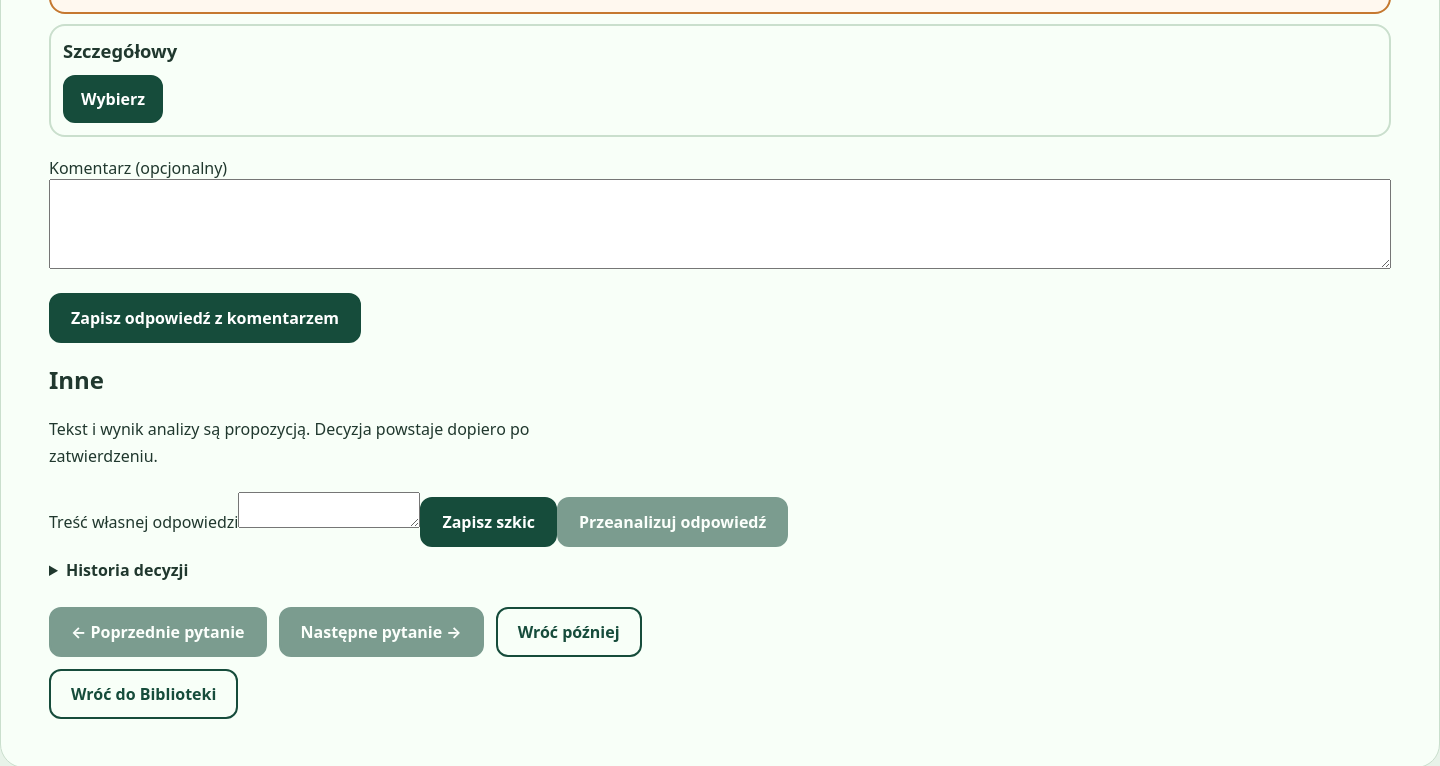
Test: Ekran analizowanej własnej odpowiedzi › Zmień odpowiedź unieważnia wynik i wymaga ponownej analizy
This screenshot has width=1440, height=766.
(page scrolled)
Type "Stary tekst" into the text box labelled "Treść własnej odpowiedzi" at {"x": 329, "y": 510}, box x1=238 y1=492 x2=420 y2=528
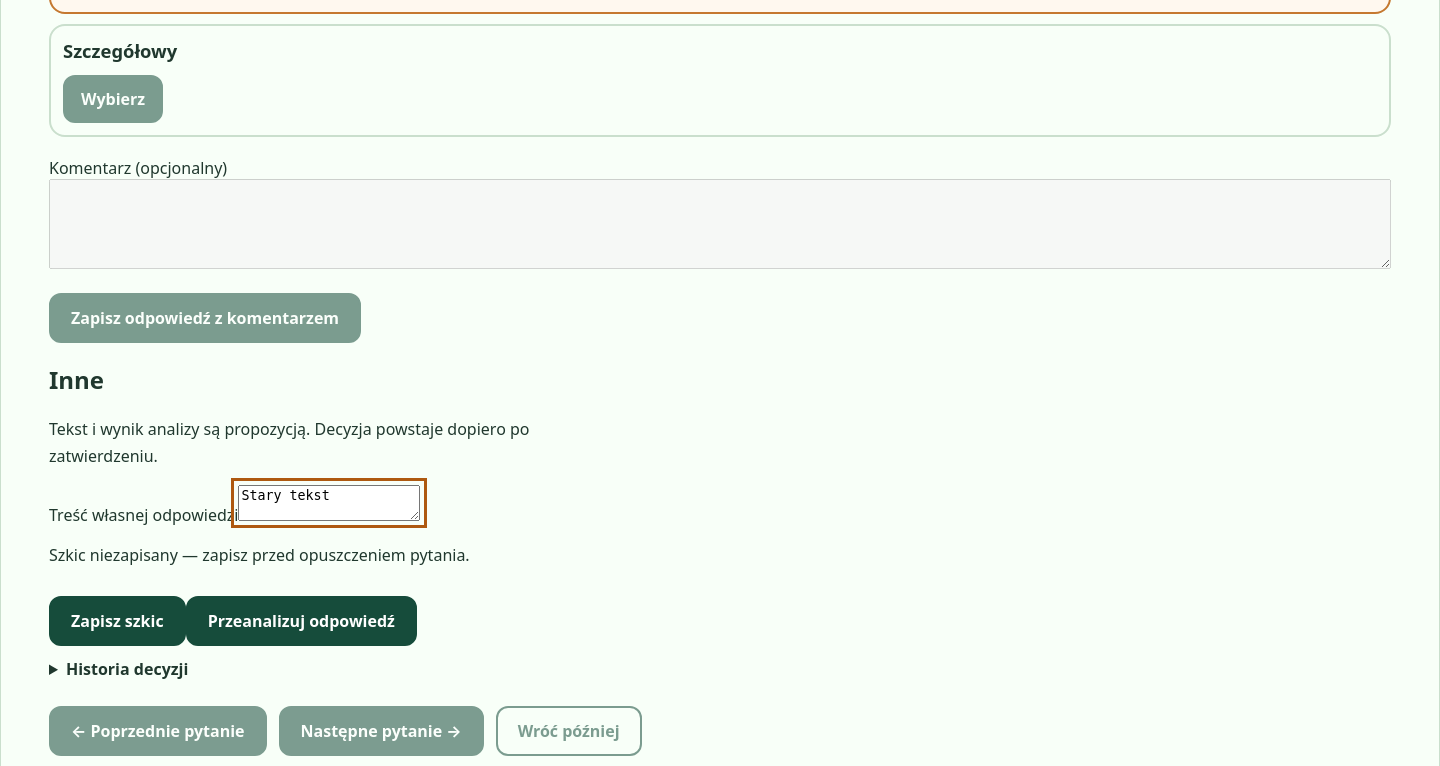
Click the button "Przeanalizuj odpowiedź" at {"x": 301, "y": 621}, box x1=186 y1=596 x2=417 y2=646
(page scrolled)
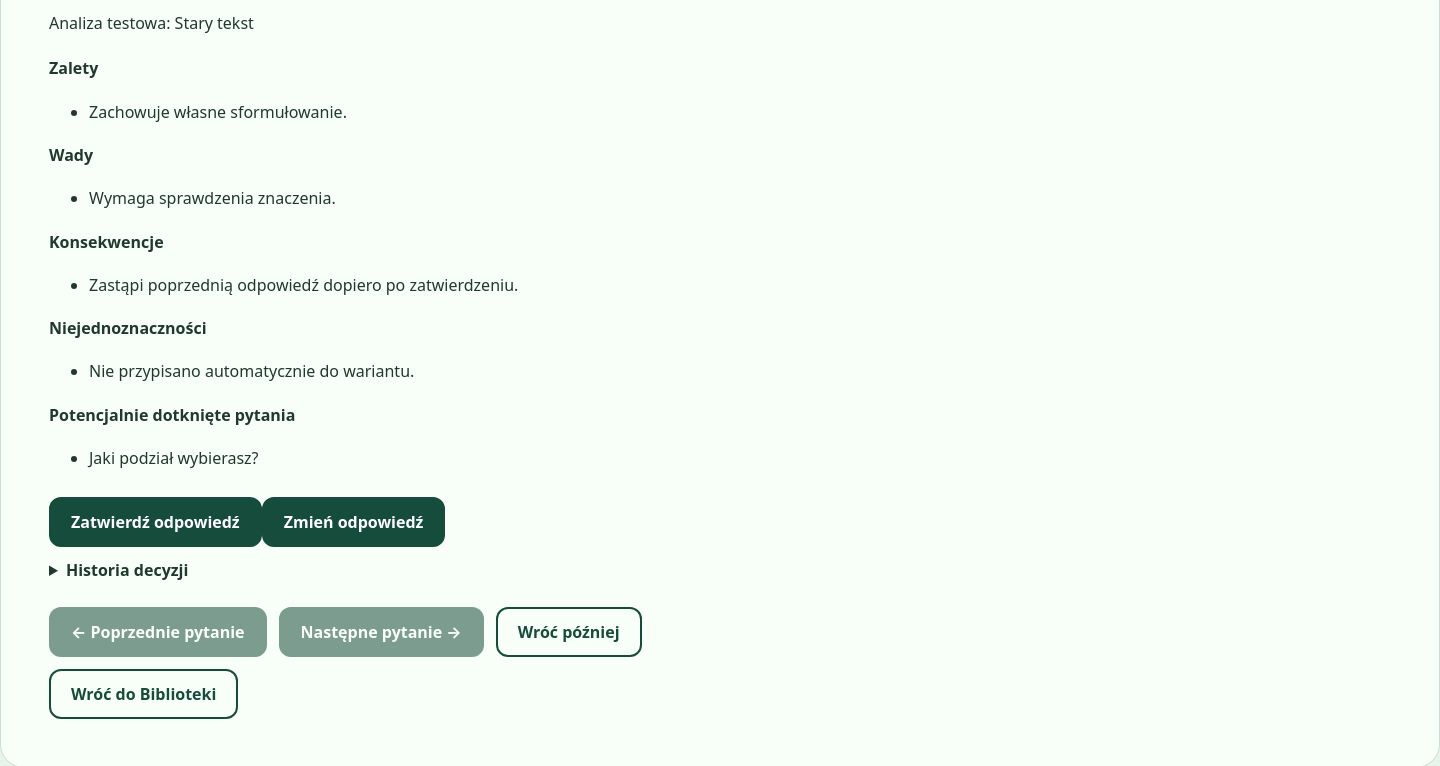
Expected: the button "Zatwierdź odpowiedź" is shown, x1=49 y1=497 x2=262 y2=547
Click the button "Zmień odpowiedź" at {"x": 354, "y": 522}, box x1=262 y1=497 x2=445 y2=547
(page scrolled)
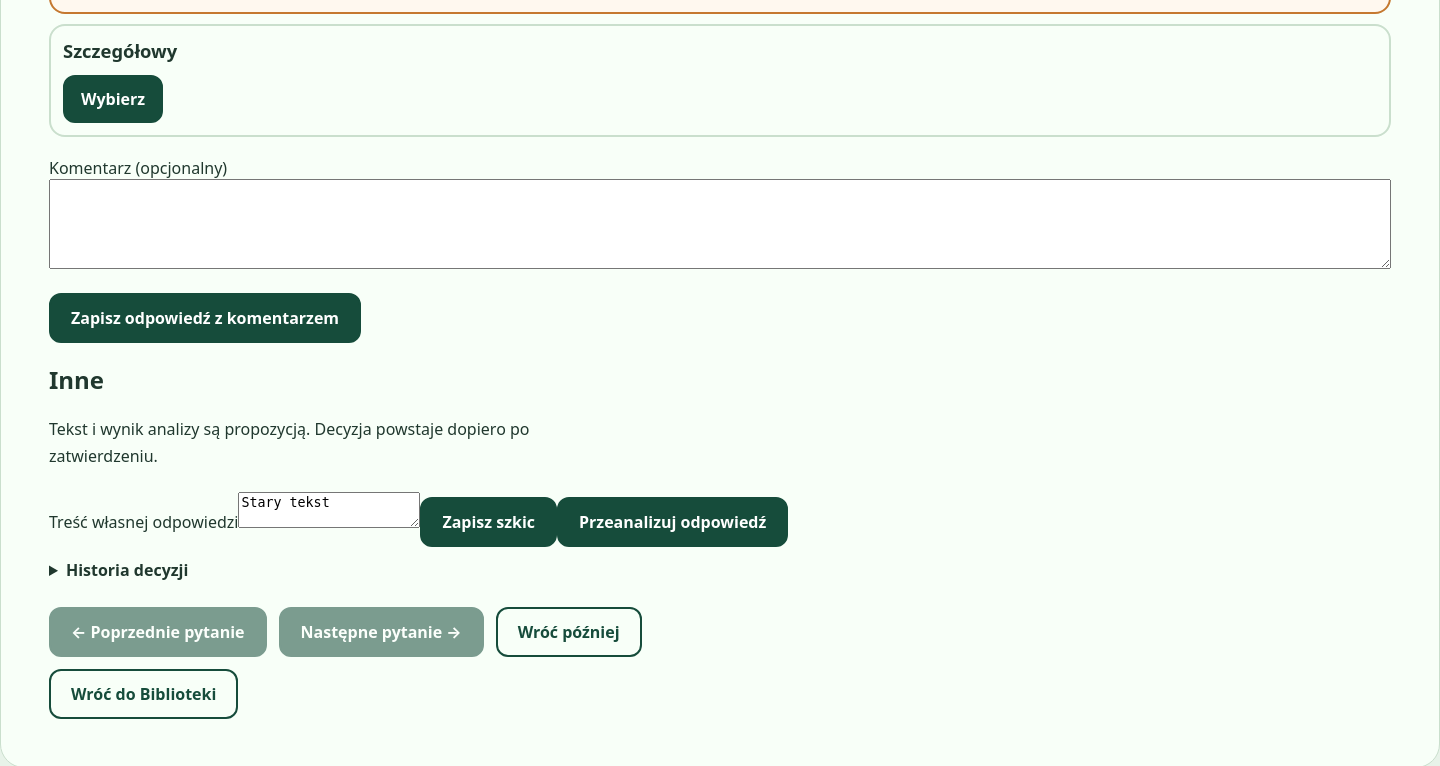
Expected: the button "Zatwierdź odpowiedź" is gone
Clear the text box labelled "Treść własnej odpowiedzi" at {"x": 329, "y": 510}, box x1=238 y1=492 x2=420 y2=528
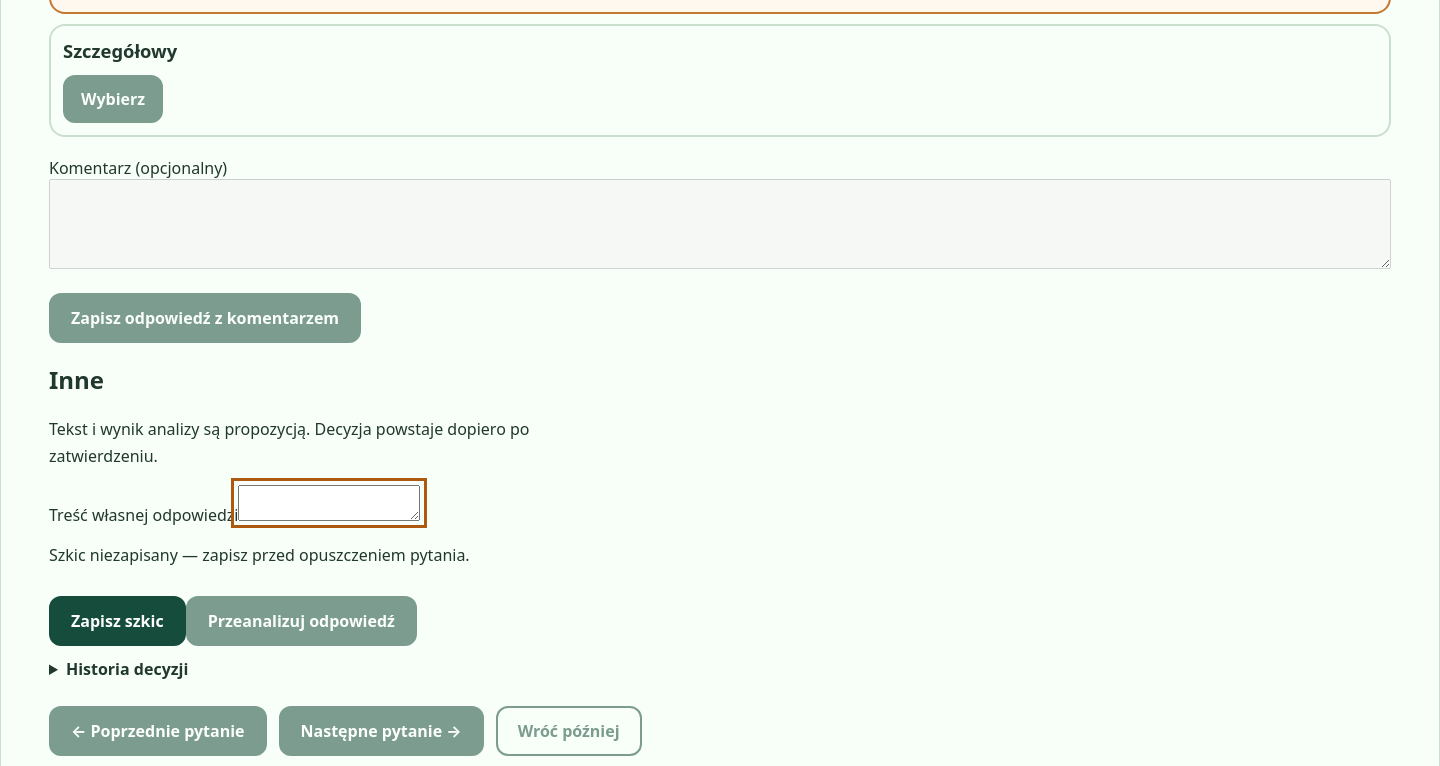
Type "Nowy tekst" into the text box labelled "Treść własnej odpowiedzi" at {"x": 329, "y": 503}, box x1=238 y1=485 x2=420 y2=521
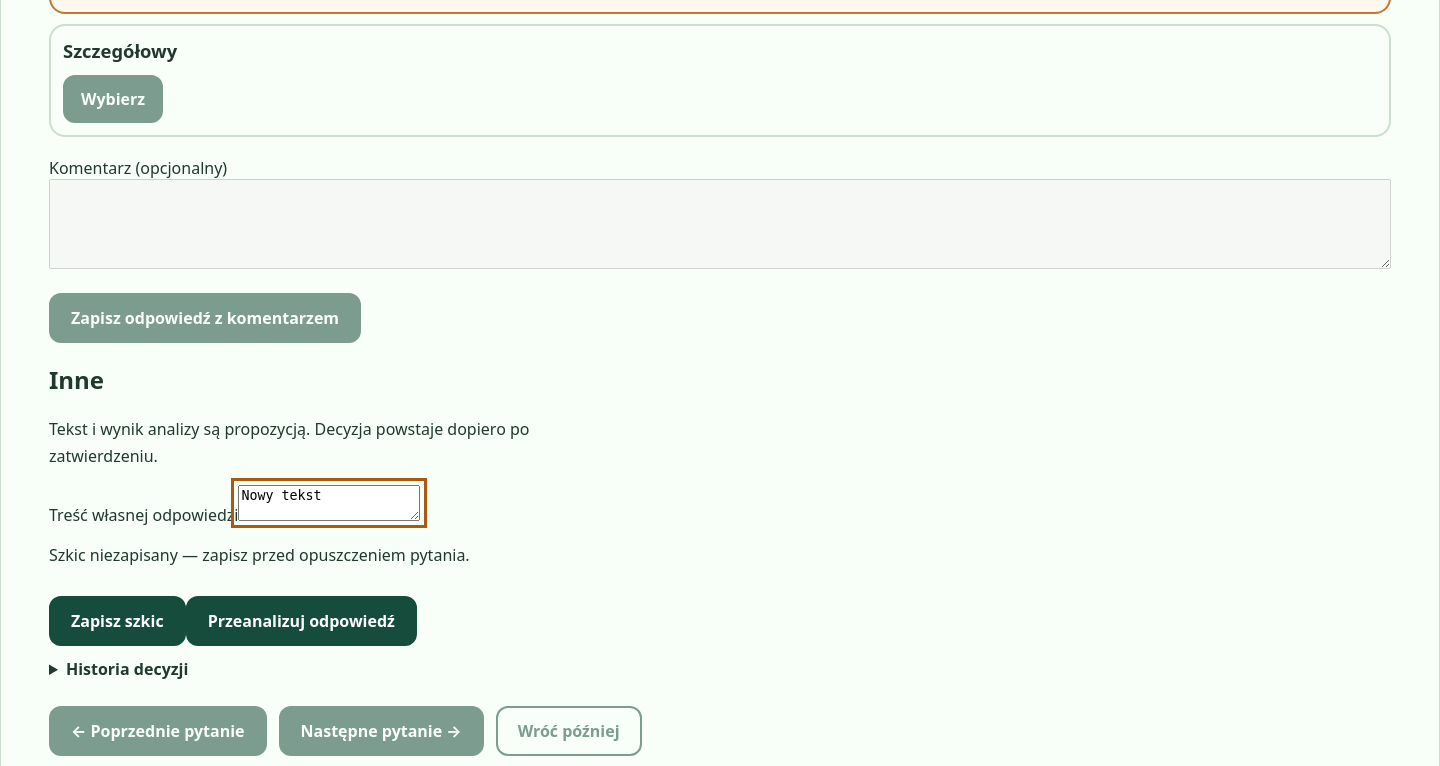
Click the button "Przeanalizuj odpowiedź" at {"x": 301, "y": 621}, box x1=186 y1=596 x2=417 y2=646
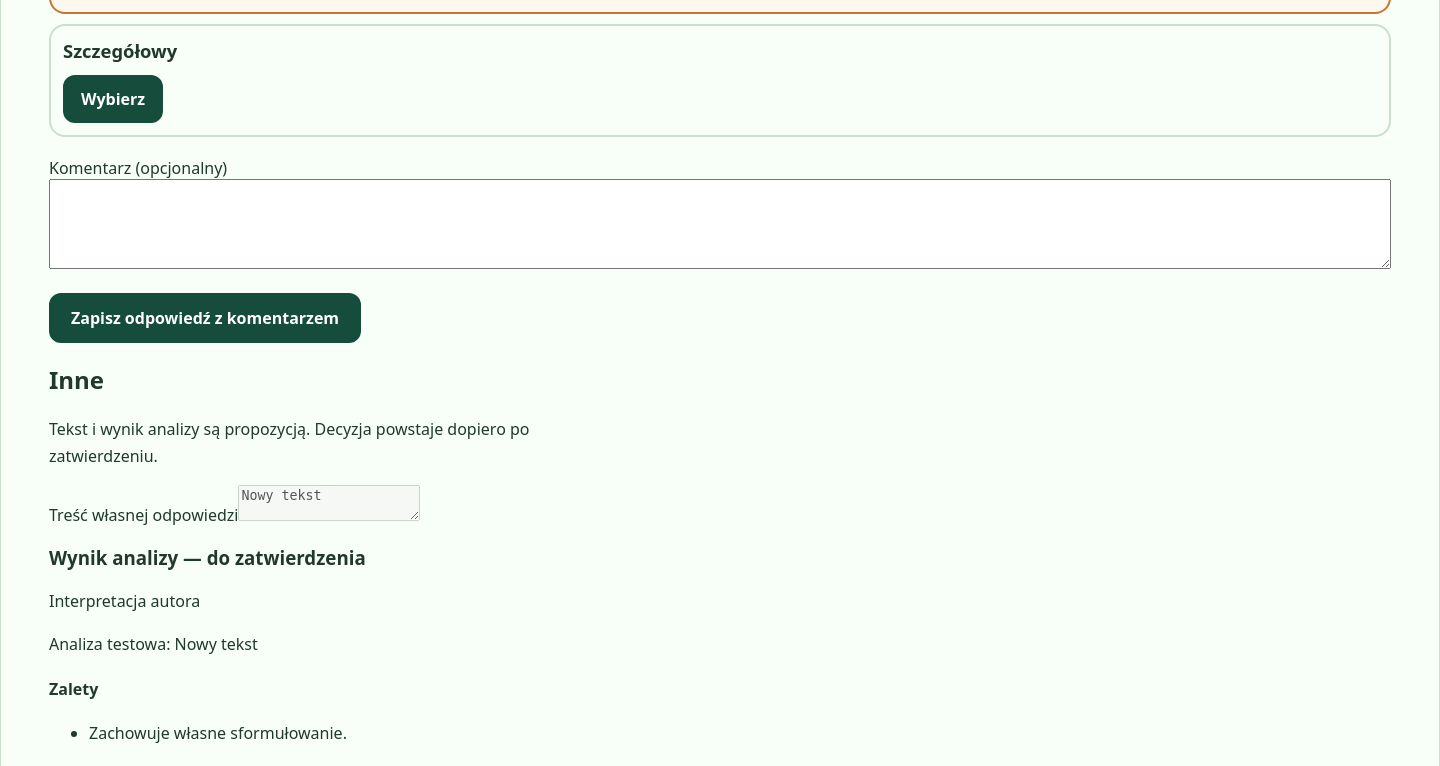
Expected: the text "Analiza testowa: Stary tekst" is not shown
Expected: the text "Analiza testowa: Nowy tekst" is shown, x1=49 y1=633 x2=258 y2=655
